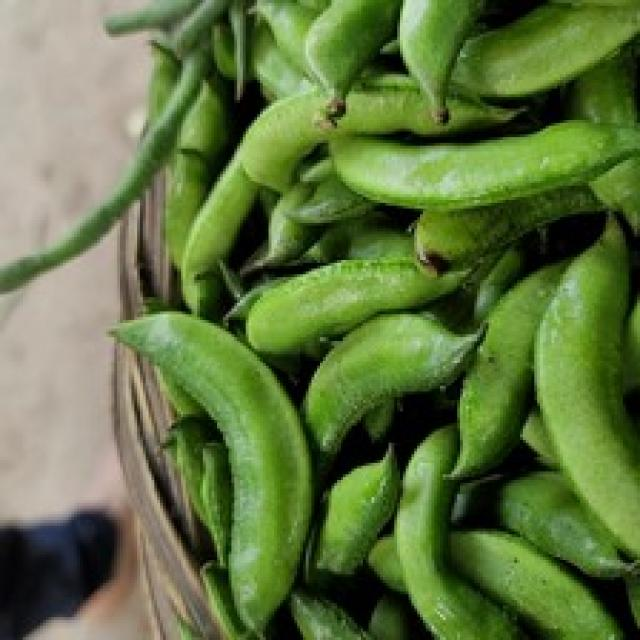Bean: (106, 0, 637, 637)
